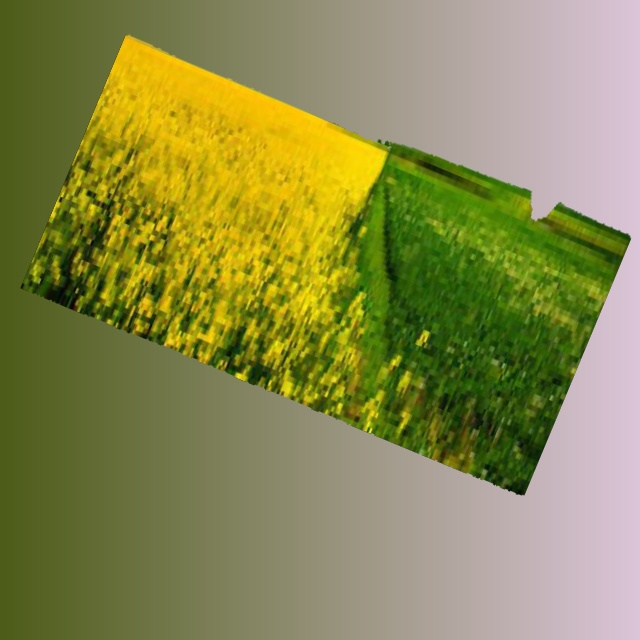dandelion: (21, 35, 630, 494)
